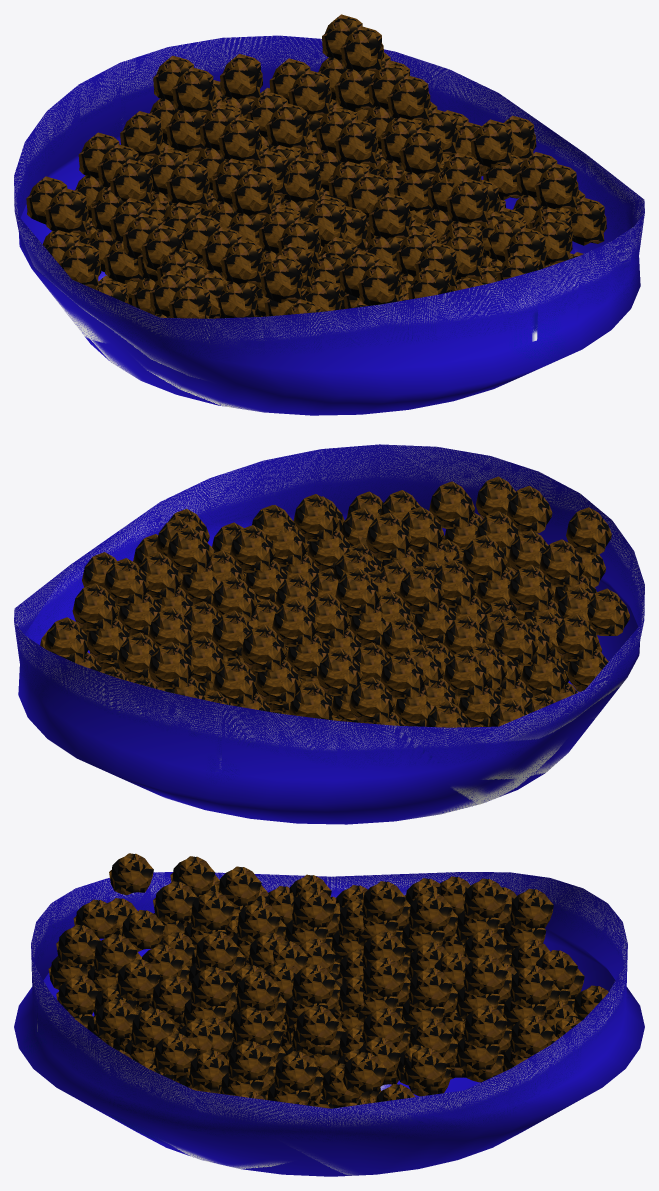
The model's file is DogFoodBowlWithFood.fbx.
3 views of the same model, one above another, from view 1: azimuth 30°, elevation 25°; view 2: azimuth 150°, elevation 25°; view 3: azimuth 270°, elevation 25° (orthographic). The views are drawn at different scales.
Visible parts, largest first — view 1: Dog Food Bowl, Kibble.183, Kibble.317, Kibble.209, Kibble.241, Kibble.321, Kibble.065, Kibble.081, Kibble.177, Kibble.286, Kibble.113, Kibble.049 (+73 smaller); view 2: Dog Food Bowl, Kibble.112, Kibble.240, Kibble.049, Kibble.176, Kibble.286, Kibble.160, Kibble.183, Kibble.245, Kibble.145, Kibble.097, Kibble.113 (+72 smaller); view 3: Dog Food Bowl, Kibble.121, Kibble.209, Kibble.320, Kibble.097, Kibble.225, Kibble.366, Kibble.317, Kibble.065, Kibble.081, Kibble.183, Kibble.321 (+74 smaller).
Boxes of the visible parts, x1,y1,x2,y2 form: Dog Food Bowl: (14,35,644,415); Kibble.183: (260,255,303,303); Kibble.317: (470,119,513,167); Kibble.209: (231,170,274,216); Kibble.241: (172,67,215,113); Kibble.321: (535,163,578,209); Kibble.065: (446,178,489,224); Kibble.081: (400,129,443,175); Kibble.177: (221,238,264,284); Kibble.286: (369,193,411,239); Kibble.113: (341,26,384,72); Kibble.049: (220,54,262,100); Dog Food Bowl: (14,444,644,824); Kibble.112: (72,583,118,630); Kibble.240: (241,624,286,671); Kibble.049: (148,641,194,689); Kibble.176: (508,564,553,611); Kibble.286: (366,512,411,559); Kibble.160: (349,677,394,724); Kibble.183: (566,507,611,554); Kibble.245: (317,648,362,695); Kibble.145: (443,649,489,697); Kibble.097: (166,527,212,574); Kibble.113: (103,558,149,605); Dog Food Bowl: (14,872,644,1176); Kibble.121: (462,1005,507,1046); Kibble.209: (291,888,335,929); Kibble.320: (273,1051,317,1092); Kibble.097: (361,957,405,999); Kibble.225: (361,881,405,922); Kibble.366: (341,1052,386,1094); Kibble.317: (294,1005,338,1047); Kibble.065: (189,966,234,1008); Kibble.081: (291,964,335,1005); Kibble.183: (109,853,153,895); Kibble.321: (226,1040,271,1082).
Size of the model in its own units: 784 by 337 by 901.
